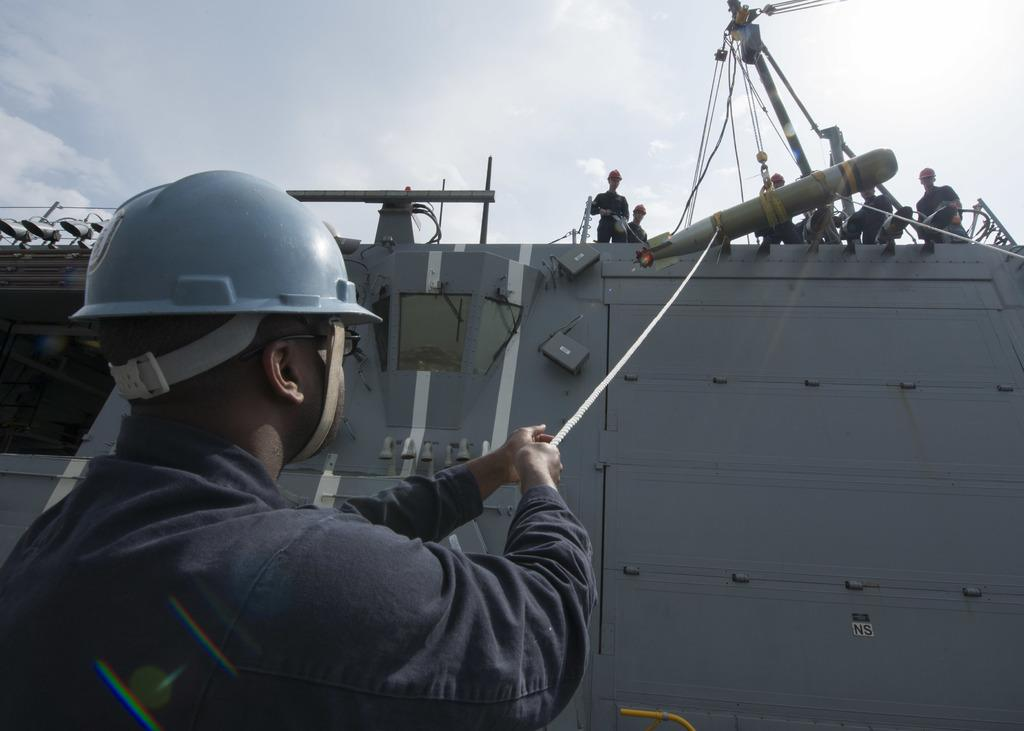helmet: (67, 170, 384, 449), (918, 167, 936, 187), (607, 169, 623, 189), (633, 204, 647, 222)
